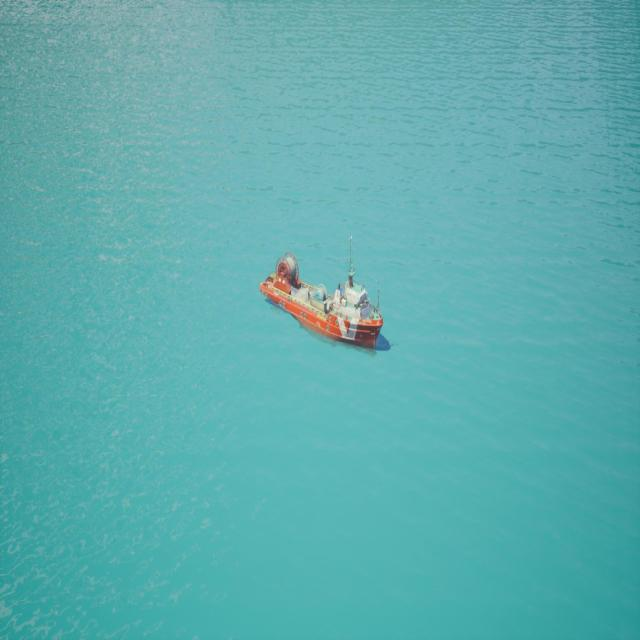tug boat: (261, 242, 389, 357)
